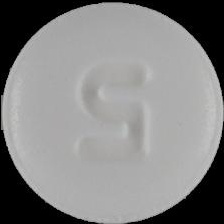13668-217: (0, 0, 224, 224)
